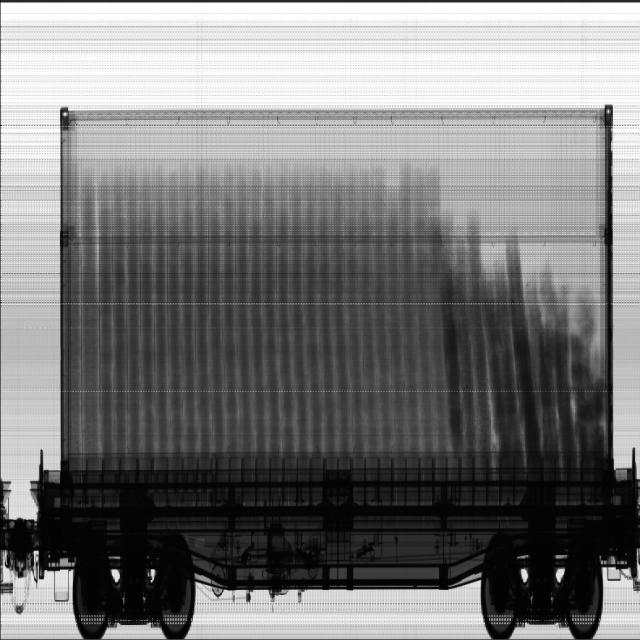textiles: (68, 158, 607, 458)
